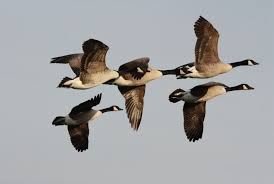goose: (96, 56, 192, 132), (166, 81, 256, 144), (48, 36, 151, 91), (177, 15, 260, 82), (45, 92, 124, 155)
